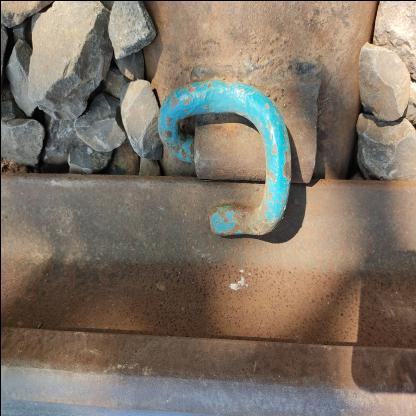Non Defective 1: (76, 143, 263, 362)
